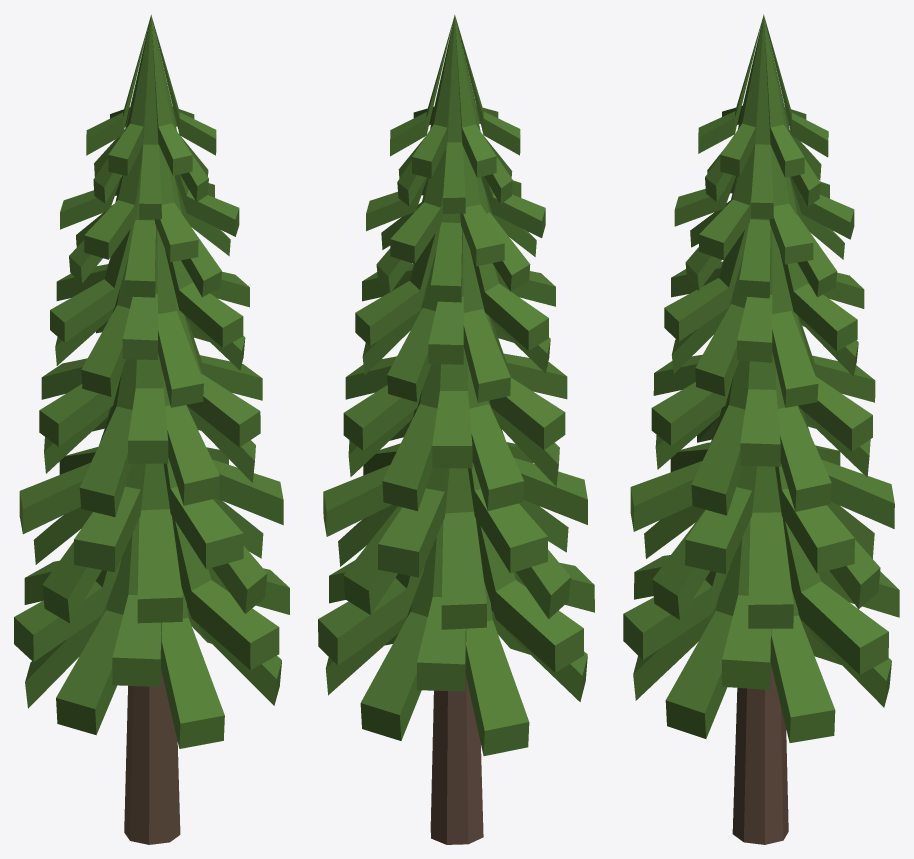
The model's file is tree.fbx.
The picture shows the model from 3 angles, left to right: view 1: azimuth 30°, elevation 25°; view 2: azimuth 150°, elevation 25°; view 3: azimuth 270°, elevation 25°; orthographic projection.
Parts seen in each view (by area): view 1: huitugou_2131_691.007; view 2: huitugou_2131_691.007; view 3: huitugou_2131_691.007.
Part boxes in pixels (x1,y1,x2,y2): huitugou_2131_691.007: [14, 14, 289, 844]; huitugou_2131_691.007: [318, 14, 594, 844]; huitugou_2131_691.007: [623, 14, 899, 844].
Bounding box in the file's own units: 686 × 2185 × 668.
